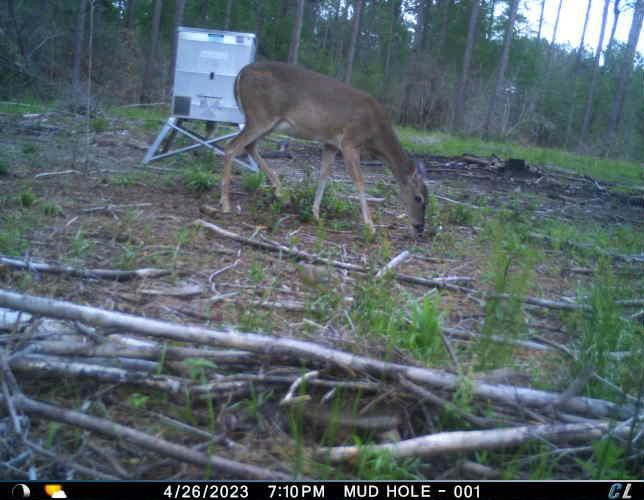Deer: (212, 52, 436, 240)
